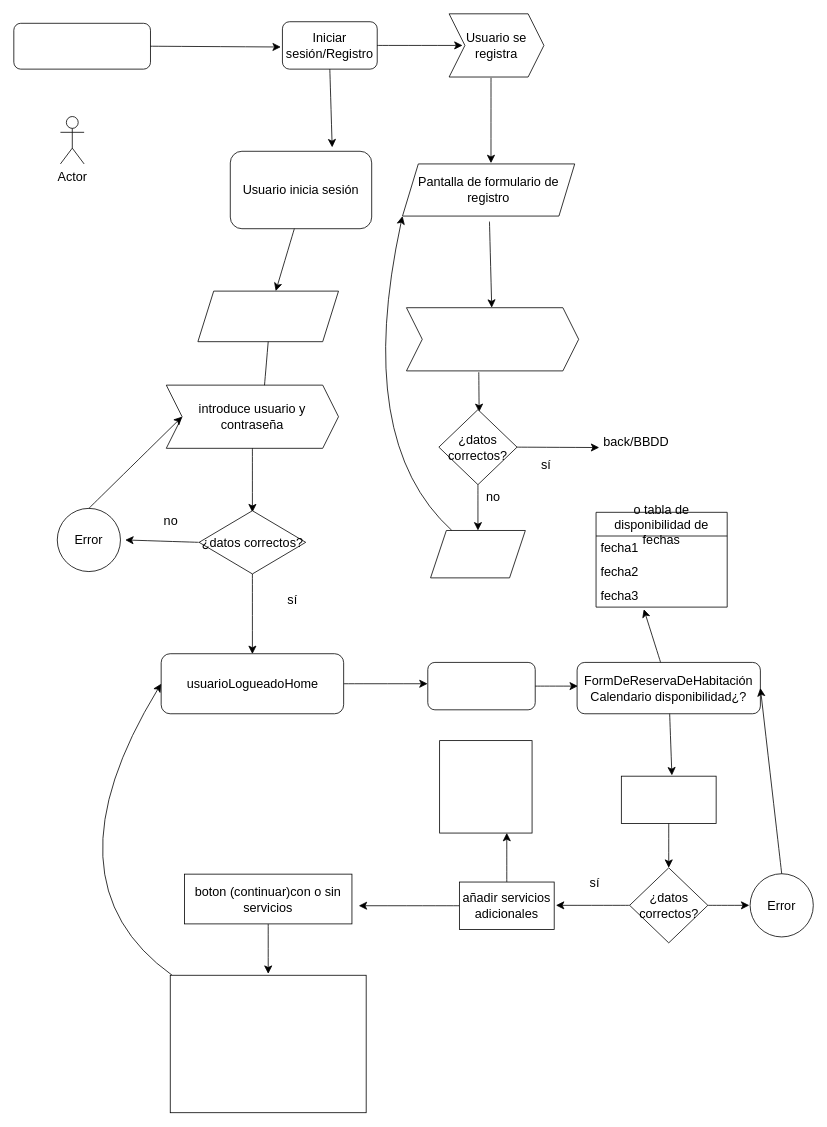
Image size: 827x1127. Some labels were removed from this diagram. The box of each missing label's shape, as (x1, y1, x2, y2) in pixels:
de vuelta al formRegistro: (430, 530, 525, 578)
detalle factura boton ir a home. gracias por tu reserva: (169, 974, 366, 1113)
galeria con los servicios y un botton para añadirlos a factura: (439, 740, 532, 833)
HazTuReserva: (427, 662, 535, 710)
Pantalla de acceso: (197, 290, 339, 342)
Página de Inicio: (13, 23, 150, 69)
reserva: (621, 775, 716, 824)
Usuario pulsa botón registrar: (406, 307, 579, 371)
